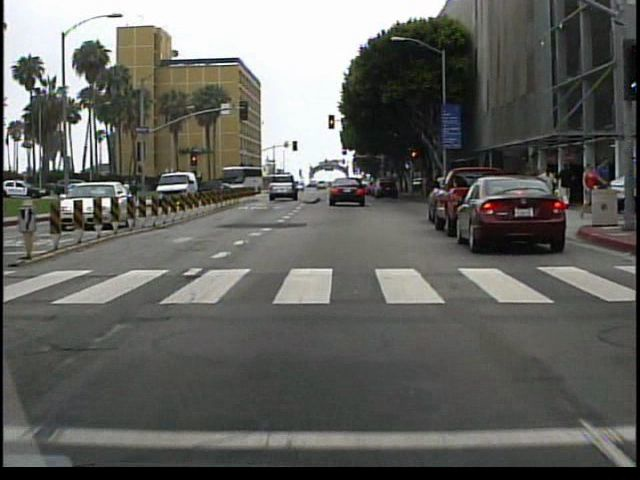person: (594, 157, 615, 221), (576, 160, 597, 223), (557, 161, 575, 210), (131, 177, 144, 197)
